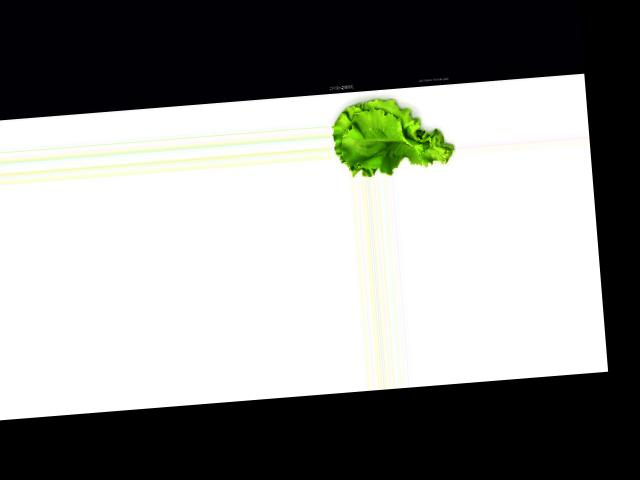lettuce: (330, 87, 453, 180)
